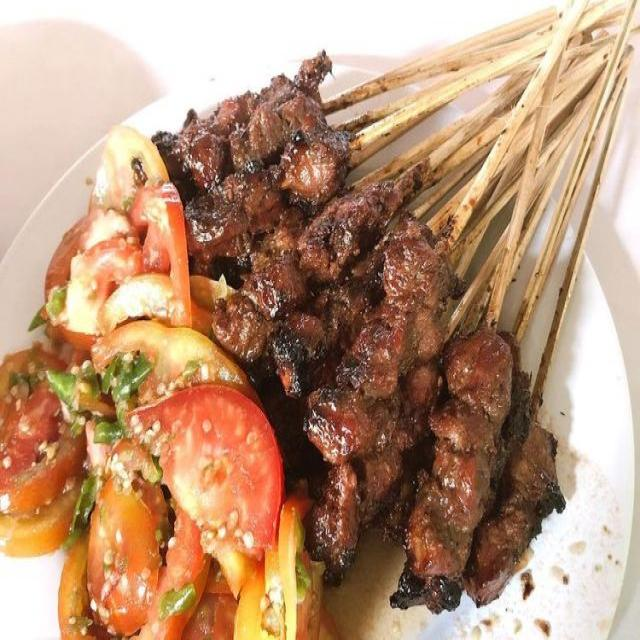sate: (150, 0, 640, 617)
